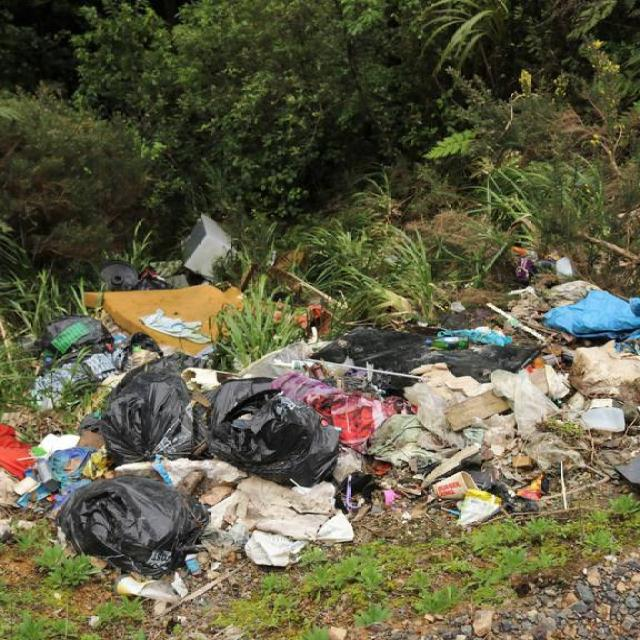dumping: (3, 234, 633, 583)
